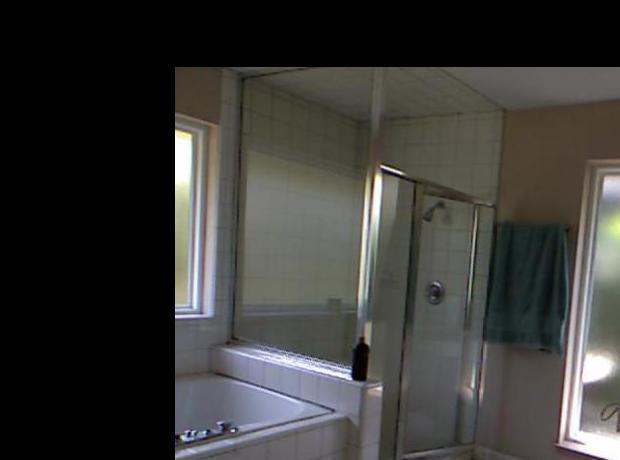Ducha: (178, 337, 384, 460)
